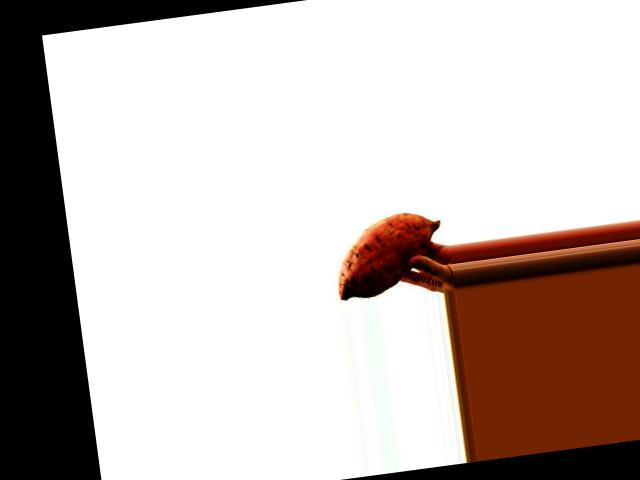sweet_potato: (326, 202, 445, 304)
